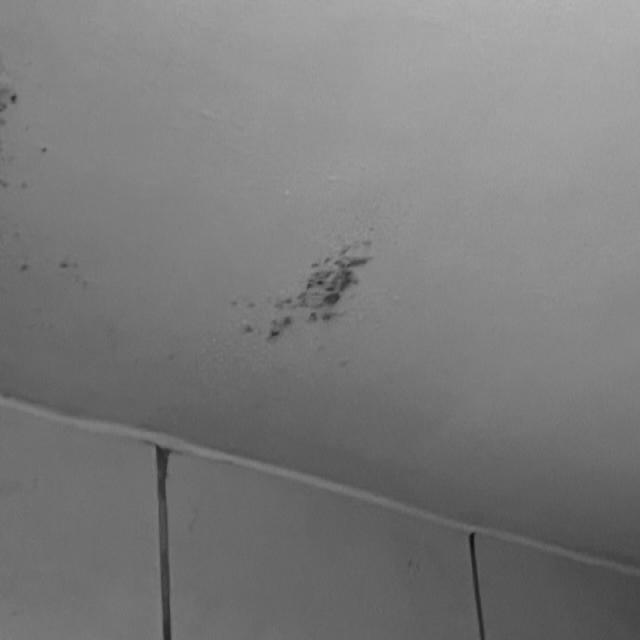stain marks: (260, 236, 386, 351), (0, 52, 31, 282), (54, 242, 86, 296), (231, 307, 261, 352), (30, 143, 59, 172)
